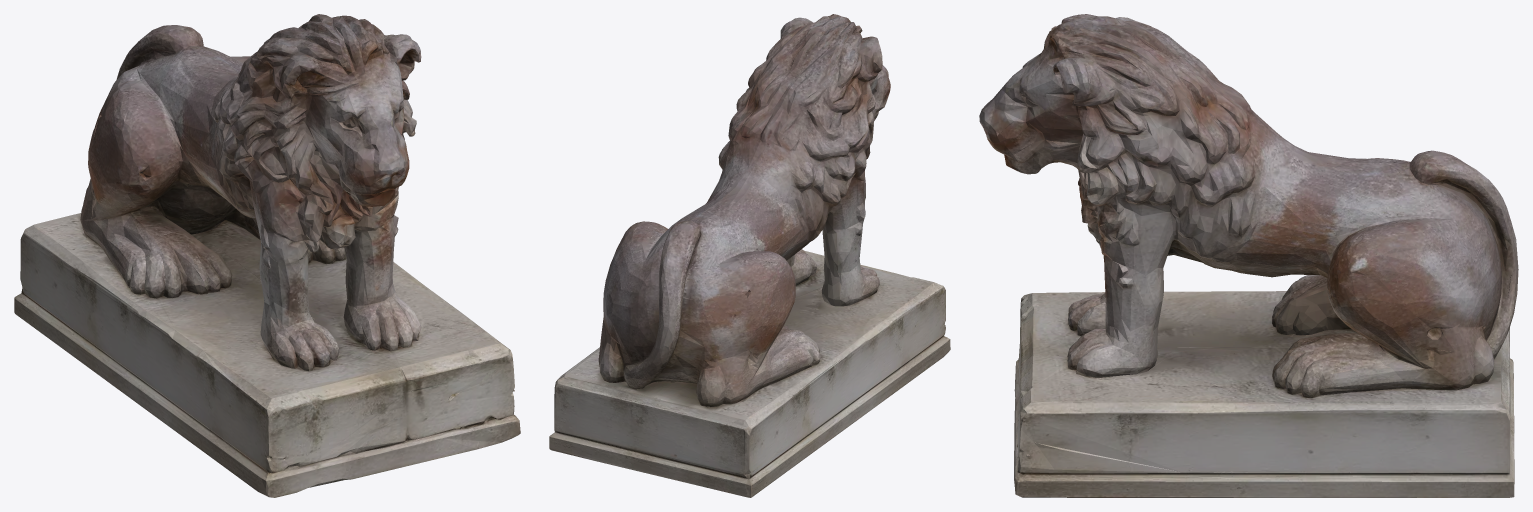
File: venice_leoncino-Bz7JSCT3.glb
The picture shows the model from 3 angles, left to right: view 1: azimuth 30°, elevation 25°; view 2: azimuth 150°, elevation 25°; view 3: azimuth 270°, elevation 25°; orthographic projection. The views are drawn at different scales.
Parts seen in each view (by area): view 1: node_0; view 2: node_0; view 3: node_0.
Part boxes in pixels (x1,y1,x2,y2): node_0: [14, 14, 520, 497]; node_0: [549, 14, 950, 497]; node_0: [979, 14, 1518, 497].
Size of the model in its own units: 0.461 by 0.7241 by 0.8588.
Materials: 1 (1 with a texture image).
